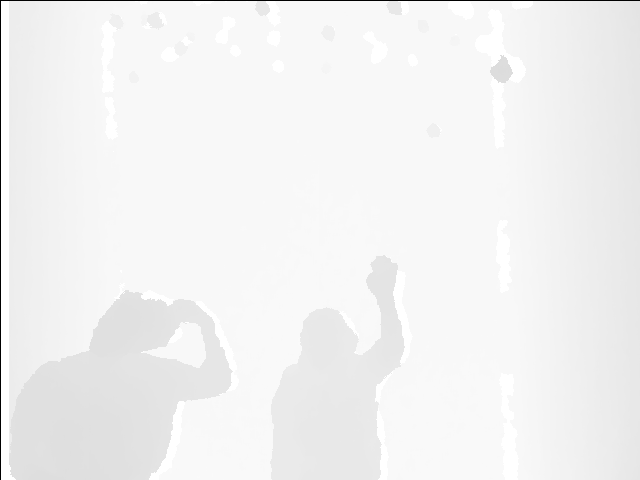hand: (368, 255, 400, 301)
